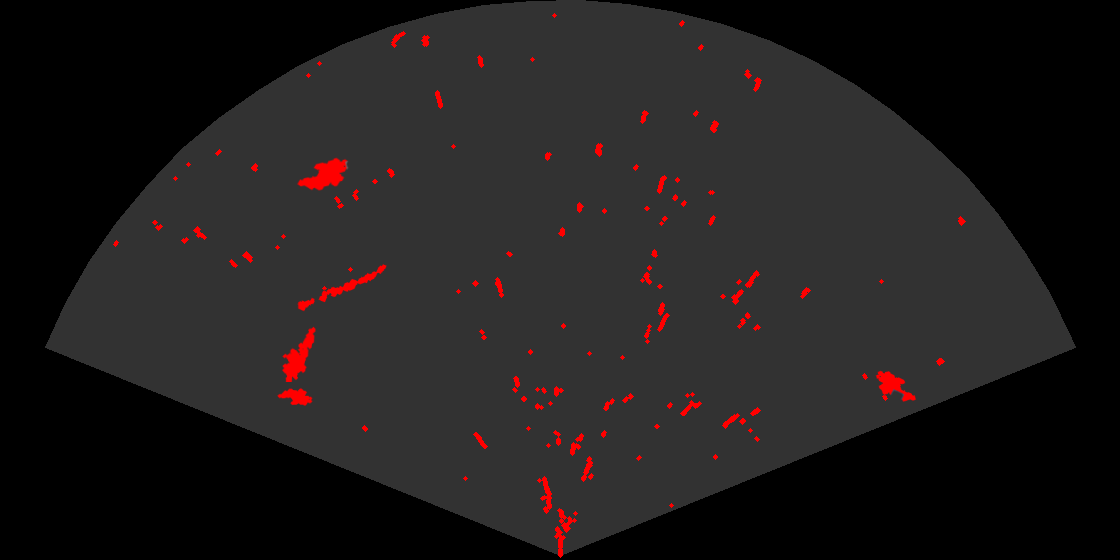AUV: (295, 156, 349, 192), (874, 369, 917, 403), (276, 386, 314, 407)
chain: (295, 263, 388, 313)
frogman: (281, 325, 317, 382)
